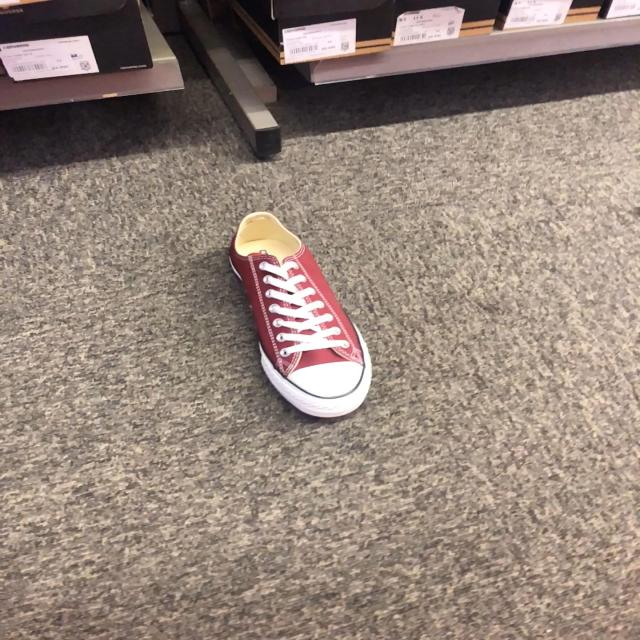shoe: (228, 213, 373, 422)
